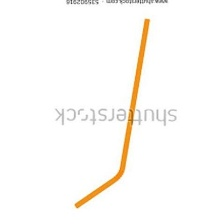drinking_straw: (68, 13, 157, 213)
